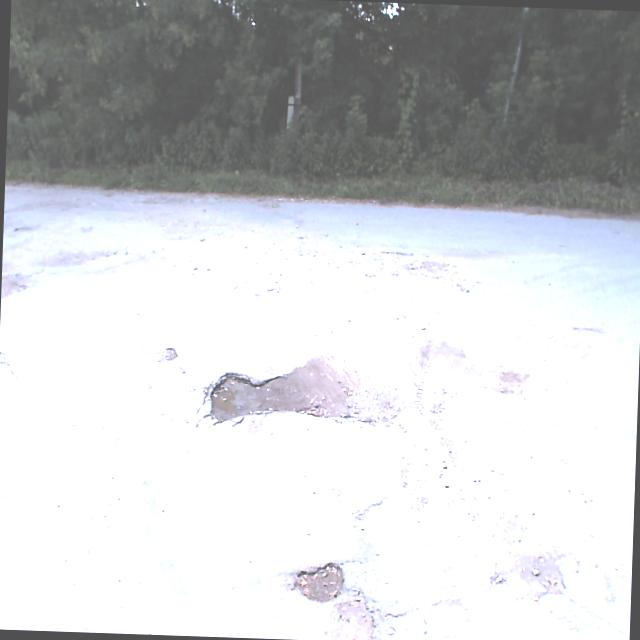road: (0, 182, 640, 640)
